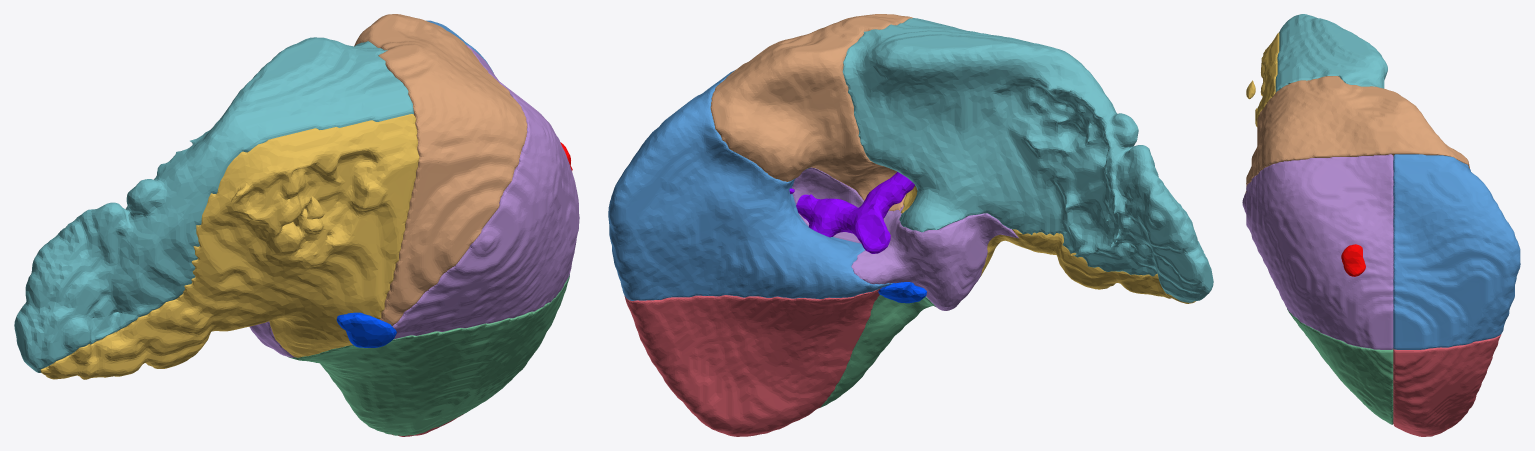
The picture shows the model from 3 angles, left to right: view 1: azimuth 30°, elevation 25°; view 2: azimuth 150°, elevation 25°; view 3: azimuth 270°, elevation 25°; orthographic projection. The views are drawn at different scales.
Visible parts, largest first — view 1: S2, S3, S4, S8, S7, Venas Suprahepáticas, S1; view 2: S3, S5, S6, S4, S1, Vena Porta, S2, S7, S8, Venas Suprahepáticas; view 3: S8, S5, S4, S6, S3, S7, S2, M1 - sVIII.
Part boxes in pixels (bbox=[...]): S2: bbox=[40, 114, 419, 379]; S3: bbox=[14, 37, 413, 372]; S4: bbox=[354, 14, 527, 326]; S8: bbox=[392, 45, 579, 339]; S7: bbox=[287, 274, 569, 435]; Venas Suprahepáticas: bbox=[336, 312, 396, 347]; S1: bbox=[249, 321, 295, 357]; S3: bbox=[842, 18, 1213, 302]; S5: bbox=[608, 70, 892, 300]; S6: bbox=[624, 288, 881, 436]; S4: bbox=[710, 14, 912, 211]; S1: bbox=[851, 205, 1018, 310]; Vena Porta: bbox=[789, 172, 914, 253]; S2: bbox=[900, 185, 1195, 303]; S7: bbox=[818, 295, 935, 408]; S8: bbox=[792, 167, 863, 243]; Venas Suprahepáticas: bbox=[878, 282, 926, 303]; S8: bbox=[1242, 154, 1393, 349]; S5: bbox=[1393, 154, 1520, 349]; S4: bbox=[1245, 76, 1469, 193]; S6: bbox=[1393, 334, 1501, 436]; S3: bbox=[1275, 14, 1387, 92]; S7: bbox=[1287, 308, 1393, 424]; S2: bbox=[1246, 32, 1279, 126]; M1 - sVIII: bbox=[1341, 244, 1365, 276].
Bounding box in the file's own units: 0.2657 × 0.1963 × 0.1512.
